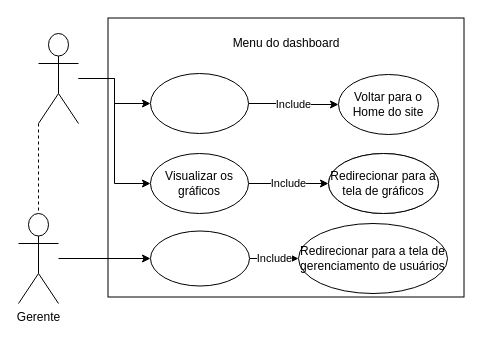
Some shapes in this 482 by 341 pixel diagram are drawn without their labels. The shapes that lost their labels are listed below. From the top down, each one's centre as x and y in pixels, then its label:
(x=58, y=78): Funcionário
(x=199, y=103): Deslogar
(x=200, y=258): Visualizar usuários
